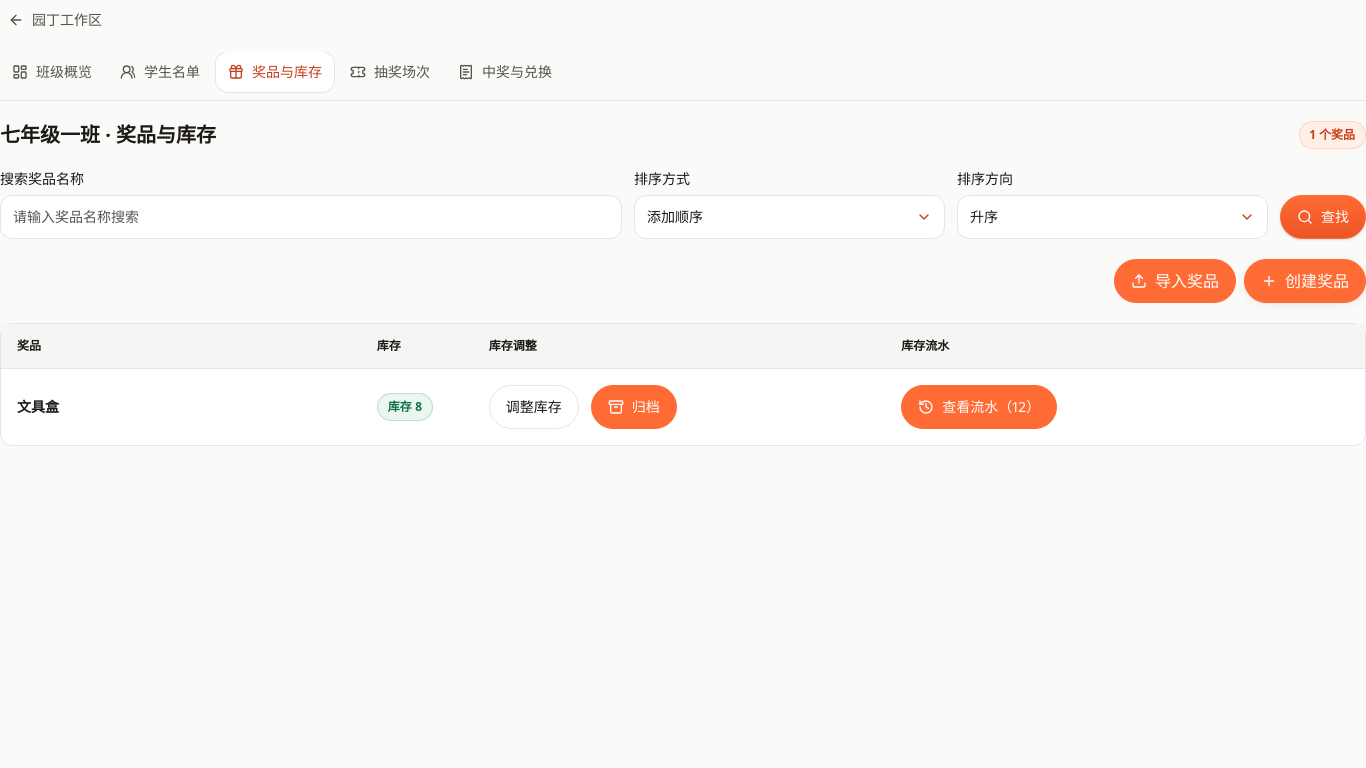
it: opens a paginated stock history table with actor names rather than identifiers
Click the button "查看流水（12）": (979, 406) [901,384,1057,428]
(page scrolled)
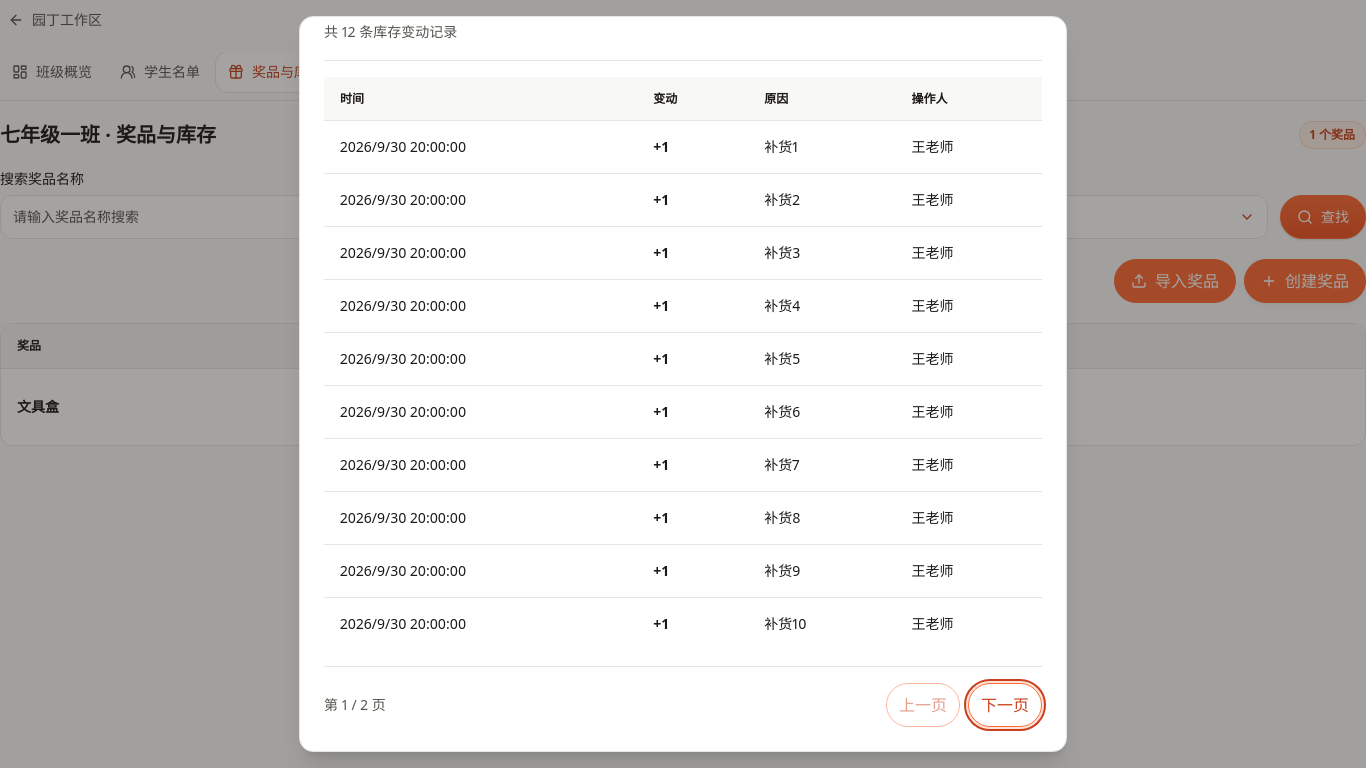
Check: the table is shown, box [324,77,1042,650]
Check: the text "王老师" is shown 10 times
Check: the text "第 1 / 2 页" is shown, box [324,695,386,715]
Click the button "下一页": (1005, 705) [968,683,1042,727]
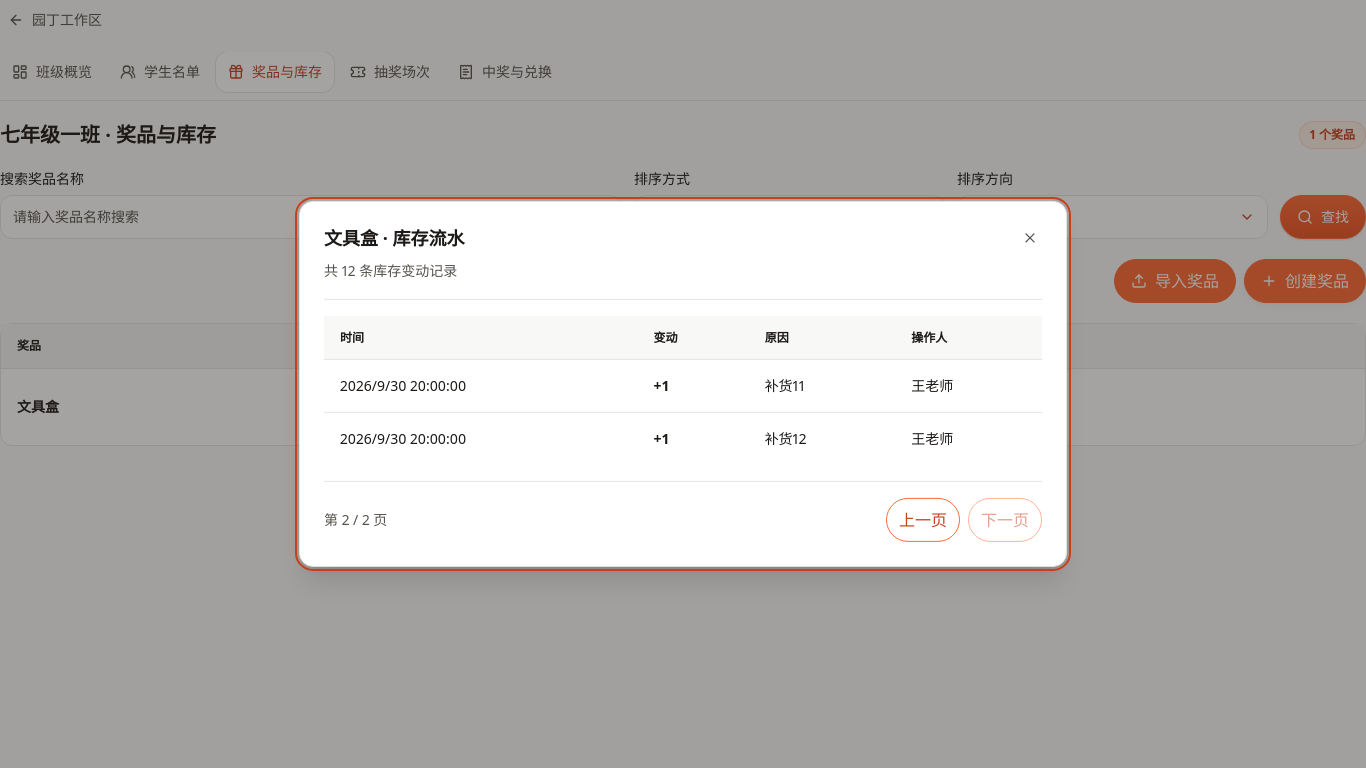
Check: the text "补货12" is shown, box [749,413,895,465]
